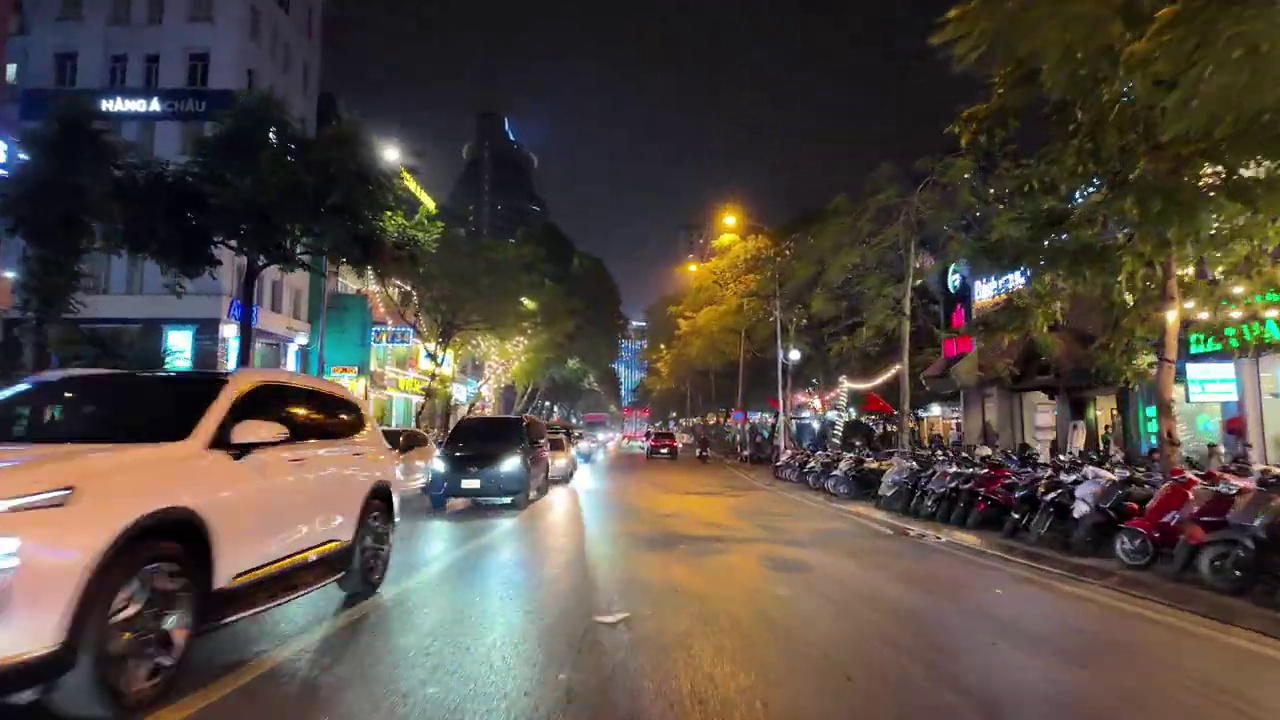acesa: (712, 204, 746, 246), (377, 140, 407, 169), (517, 296, 541, 316)
